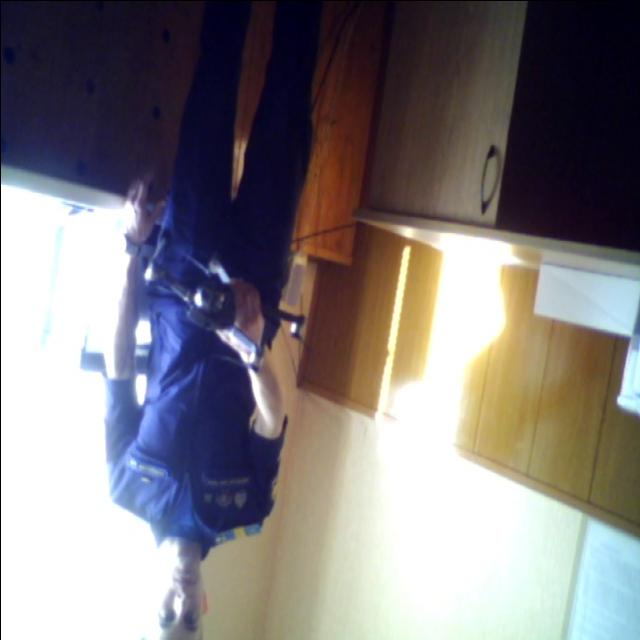drone: (120, 205, 322, 395)
